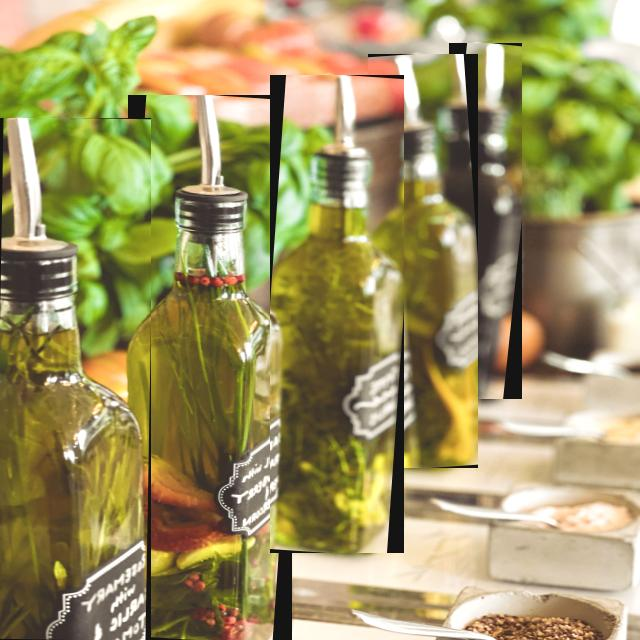Bottle: (128, 96, 290, 639), (0, 119, 150, 639), (269, 76, 403, 553), (367, 55, 477, 468), (449, 43, 520, 399)
